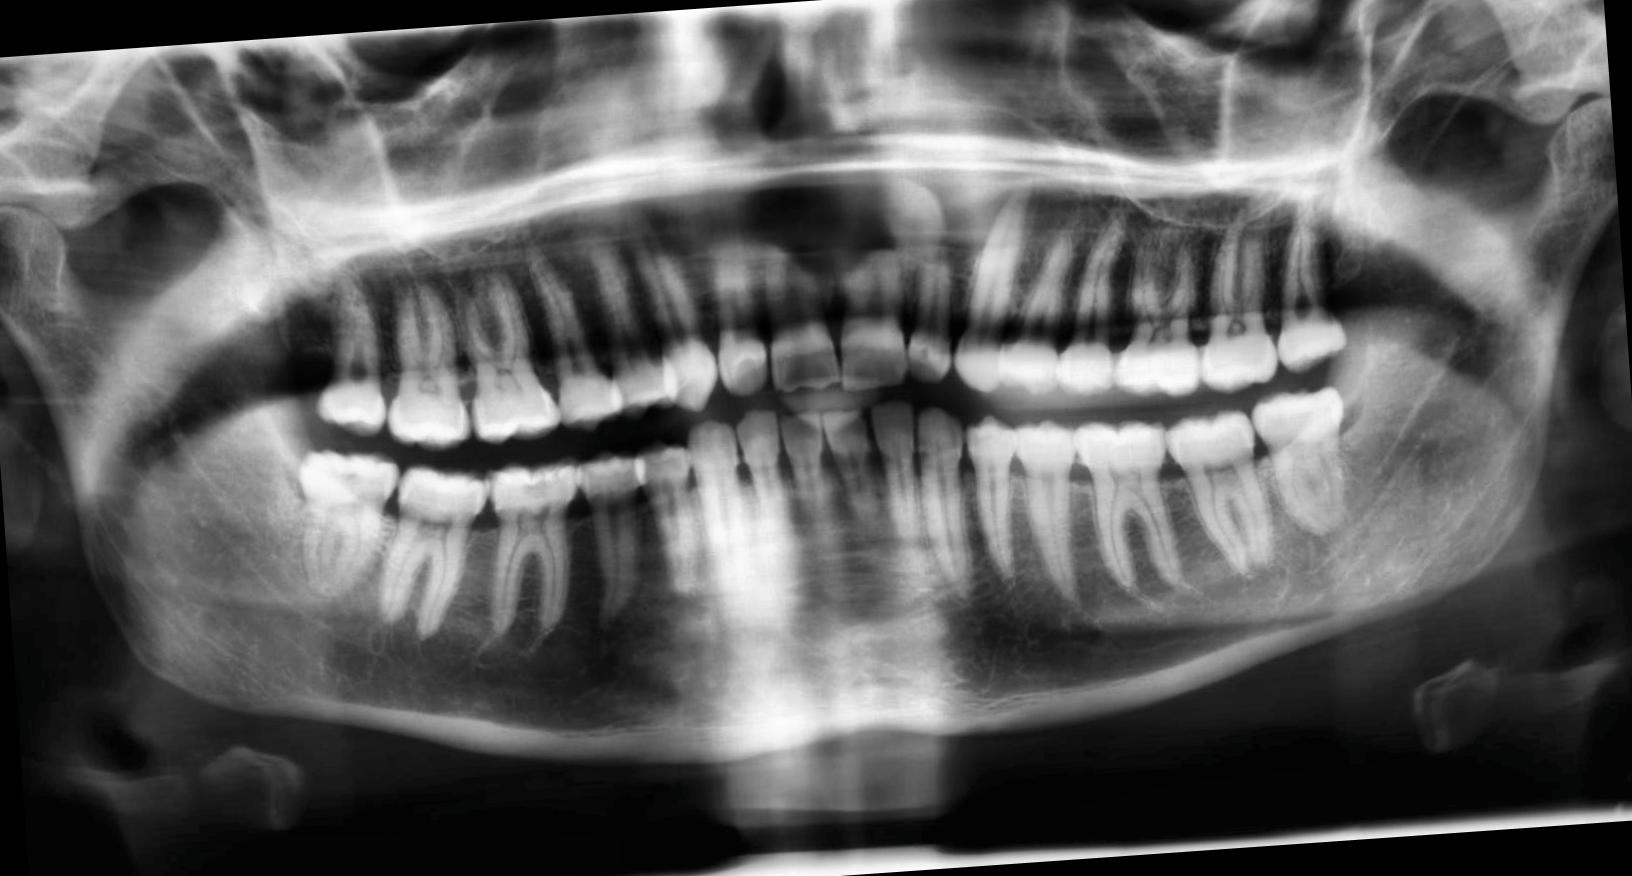radikuler: (732, 94, 1074, 284)
